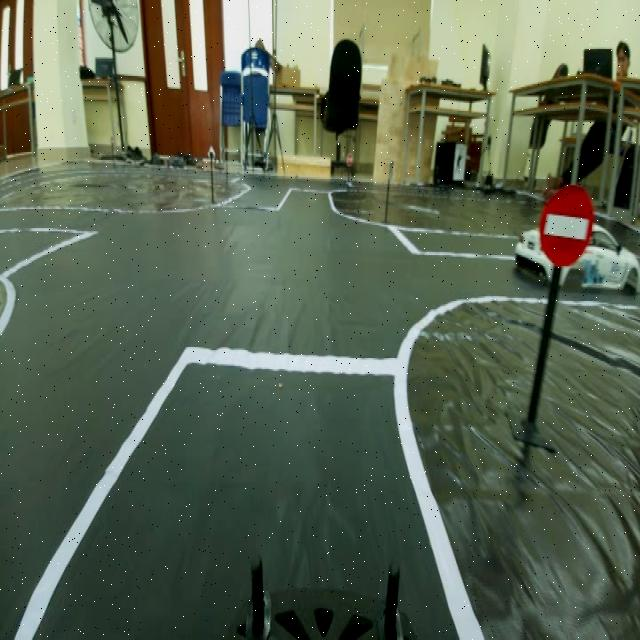no_entry: (538, 171, 594, 265)
